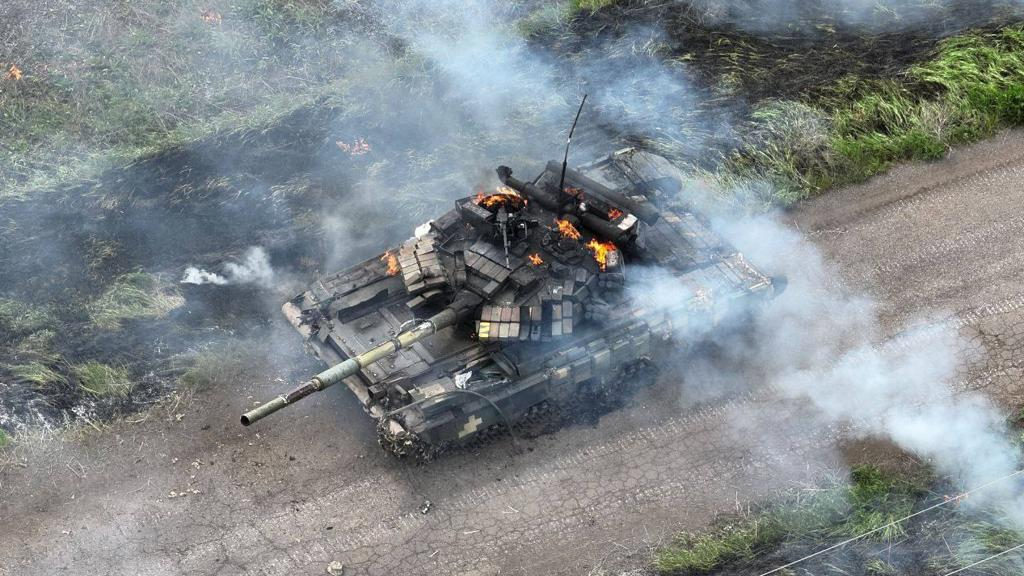TANK: (238, 142, 785, 464)
